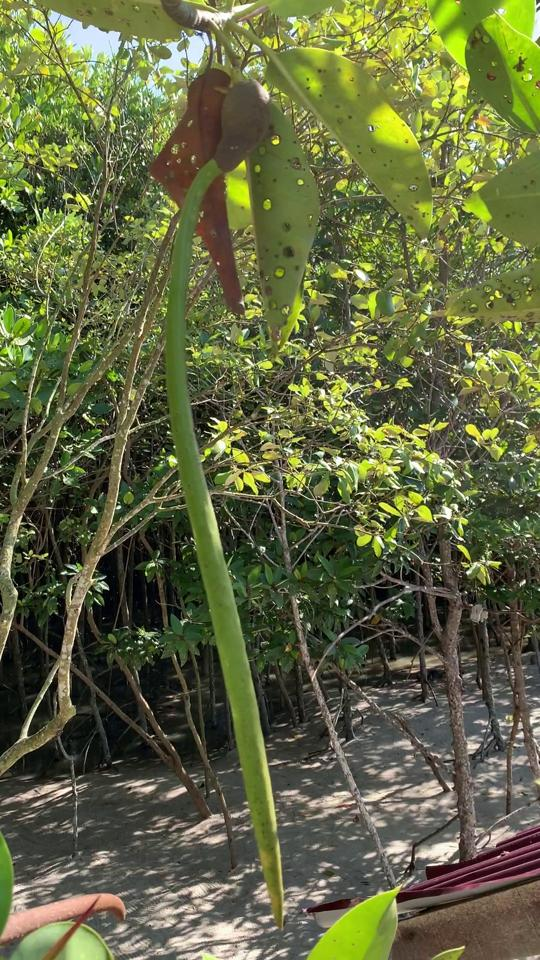mentah: (149, 51, 313, 944)
